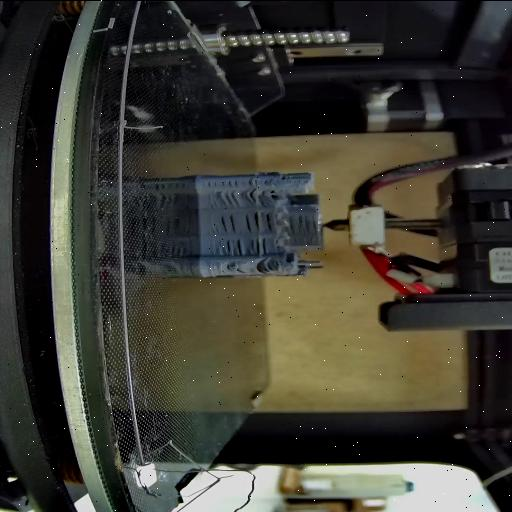cracks: (204, 178, 272, 187), (244, 212, 274, 232), (215, 238, 245, 256), (288, 215, 316, 234), (212, 212, 238, 232), (246, 188, 270, 206), (216, 190, 242, 206), (249, 236, 268, 254), (260, 262, 274, 274), (228, 264, 245, 273), (280, 174, 294, 180)
